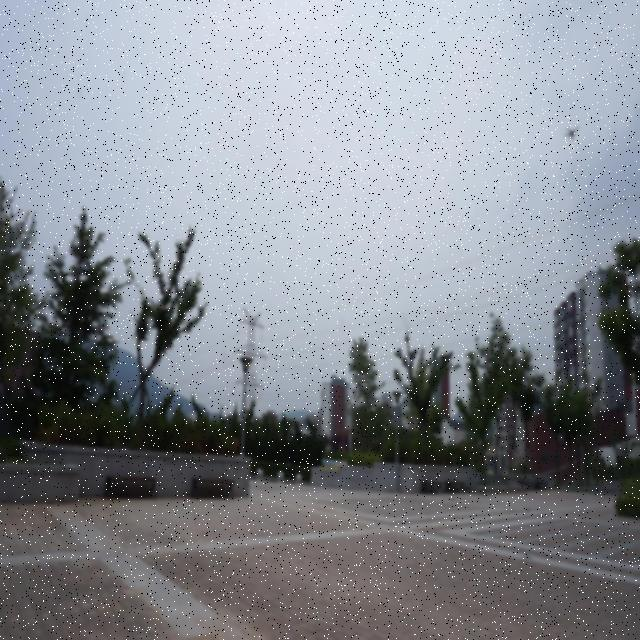UAV: (562, 126, 581, 141)
